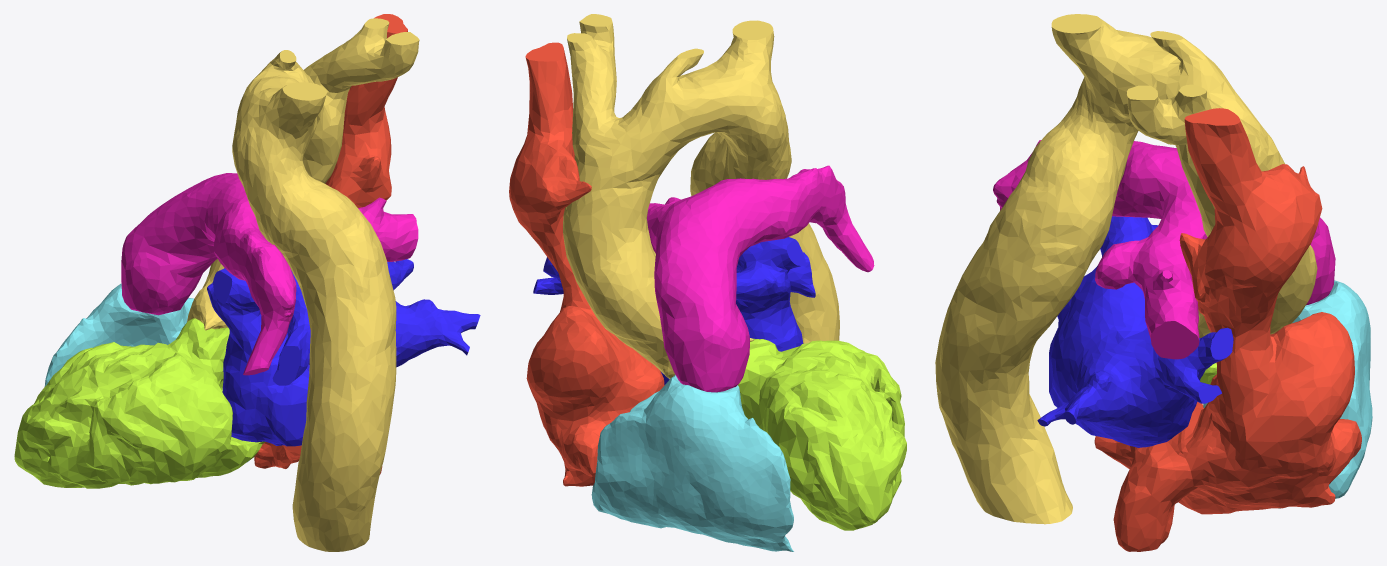
The model's file is heart2.glb.
3 renders of one model, left to right at view 1: azimuth 30°, elevation 25°; view 2: azimuth 150°, elevation 25°; view 3: azimuth 270°, elevation 25°, orthographic. The views are drawn at different scales.
Parts seen in each view (by area): view 1: AORTA, LEFT VENTRICLE, PULMONARY ARTERY, LEFT ATRIUM, RIGHT ATRIUM, RIGHT VENTRICLE; view 2: AORTA, RIGHT VENTRICLE, RIGHT ATRIUM, PULMONARY ARTERY, LEFT VENTRICLE, LEFT ATRIUM; view 3: AORTA, RIGHT ATRIUM, LEFT ATRIUM, PULMONARY ARTERY, RIGHT VENTRICLE.
Boxes of the visible parts, <box> form: AORTA: <box>187,18,419,551</box>; LEFT VENTRICLE: <box>14,318,265,488</box>; PULMONARY ARTERY: <box>121,173,418,375</box>; LEFT ATRIUM: <box>207,259,480,446</box>; RIGHT ATRIUM: <box>254,14,407,474</box>; RIGHT VENTRICLE: <box>44,283,249,462</box>; AORTA: <box>563,14,839,379</box>; RIGHT VENTRICLE: <box>591,375,793,551</box>; RIGHT ATRIUM: <box>509,42,664,486</box>; PULMONARY ARTERY: <box>647,165,874,392</box>; LEFT VENTRICLE: <box>738,338,906,530</box>; LEFT ATRIUM: <box>533,237,815,384</box>; AORTA: <box>935,14,1317,524</box>; RIGHT ATRIUM: <box>1094,108,1361,551</box>; LEFT ATRIUM: <box>1037,216,1233,447</box>; PULMONARY ARTERY: <box>993,140,1335,359</box>; RIGHT VENTRICLE: <box>1203,280,1372,508</box>.
Bounding box in the file's own units: 153 × 162 × 134.
